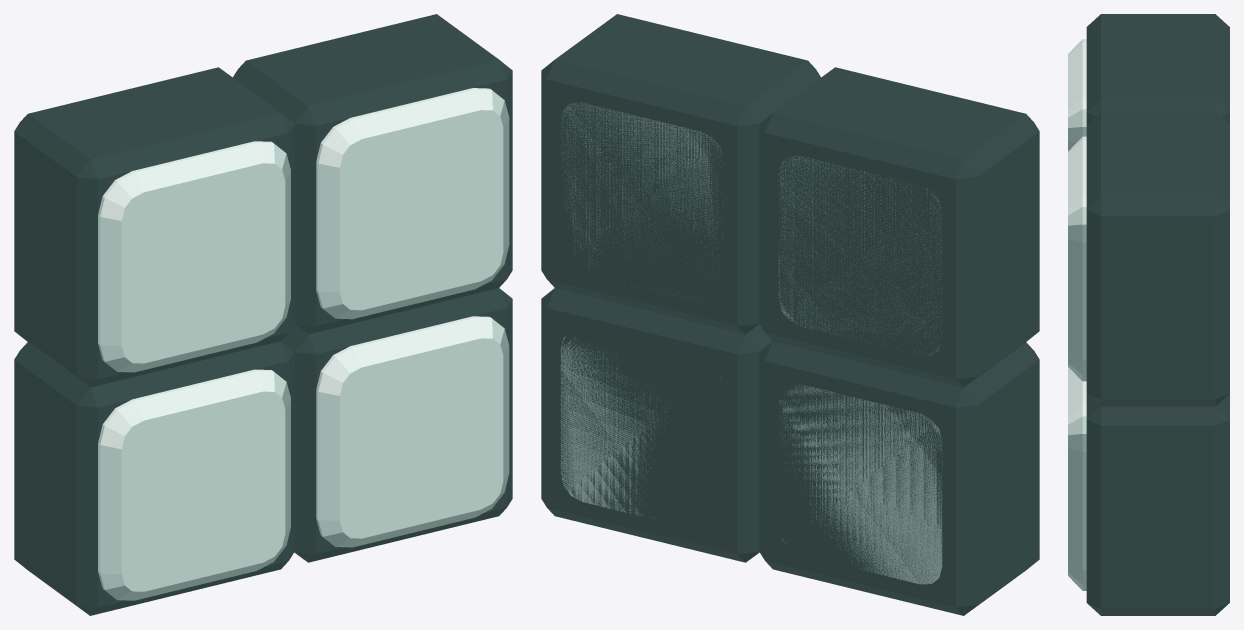
File: Terrain_Block2x2.gltf
3 renders of one model, left to right at view 1: azimuth 30°, elevation 25°; view 2: azimuth 150°, elevation 25°; view 3: azimuth 270°, elevation 25°, orthographic. The views are drawn at different scales.
Parts seen in each view (by area): view 1: Terrain_Block2x2_baked; view 2: Terrain_Block2x2_baked; view 3: Terrain_Block2x2_baked.
Part boxes in pixels (<box>): Terrain_Block2x2_baked: <box>14,14,512,615</box>; Terrain_Block2x2_baked: <box>541,14,1039,615</box>; Terrain_Block2x2_baked: <box>1068,14,1229,615</box>.
Size of the model in its own units: 2 by 2 by 0.7.
